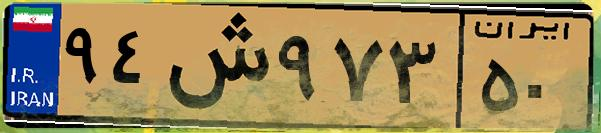0: (525, 38, 570, 115)
3: (385, 28, 445, 110)
4: (110, 28, 158, 98)
5: (475, 38, 525, 113)
7: (330, 28, 385, 110)
9: (270, 28, 330, 110), (57, 26, 110, 100)
ش: (158, 12, 270, 120)
